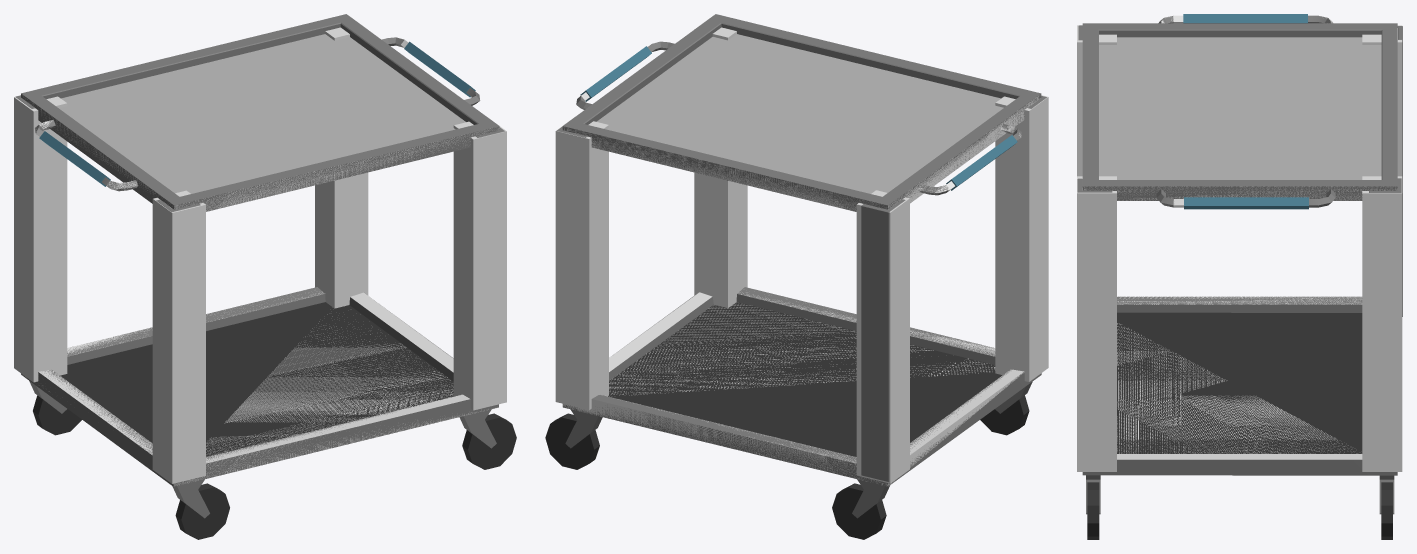
The model's file is model_trolly_01.fbx.
3 renders of one model, left to right at view 1: azimuth 30°, elevation 25°; view 2: azimuth 150°, elevation 25°; view 3: azimuth 270°, elevation 25°, orthographic. The views are drawn at different scales.
Visible parts, largest first — view 1: model_trolly_01, model_trolly_02_col, wheel (×3), wheel_spin4, wheel_spin3; view 2: model_trolly_01, model_trolly_02_col, wheel (×3), wheel_spin1, wheel_spin2; view 3: model_trolly_01, model_trolly_02_col, wheel (×2).
Part boxes in pixels (bbox=[...]): model_trolly_01: bbox=[15, 14, 504, 486]; model_trolly_02_col: bbox=[14, 17, 506, 485]; wheel (×3): bbox=[33, 395, 516, 539]; wheel_spin4: bbox=[172, 479, 209, 518]; wheel_spin3: bbox=[459, 409, 496, 448]; model_trolly_01: bbox=[557, 14, 1046, 486]; model_trolly_02_col: bbox=[555, 15, 1048, 486]; wheel (×3): bbox=[545, 395, 1029, 539]; wheel_spin1: bbox=[852, 479, 889, 518]; wheel_spin2: bbox=[565, 409, 602, 448]; model_trolly_01: bbox=[1077, 14, 1402, 475]; model_trolly_02_col: bbox=[1077, 15, 1402, 471]; wheel (×2): bbox=[1087, 482, 1392, 539].
Size of the model in its own units: 128 by 111 by 93.26.
2 materials, 1 textured.
